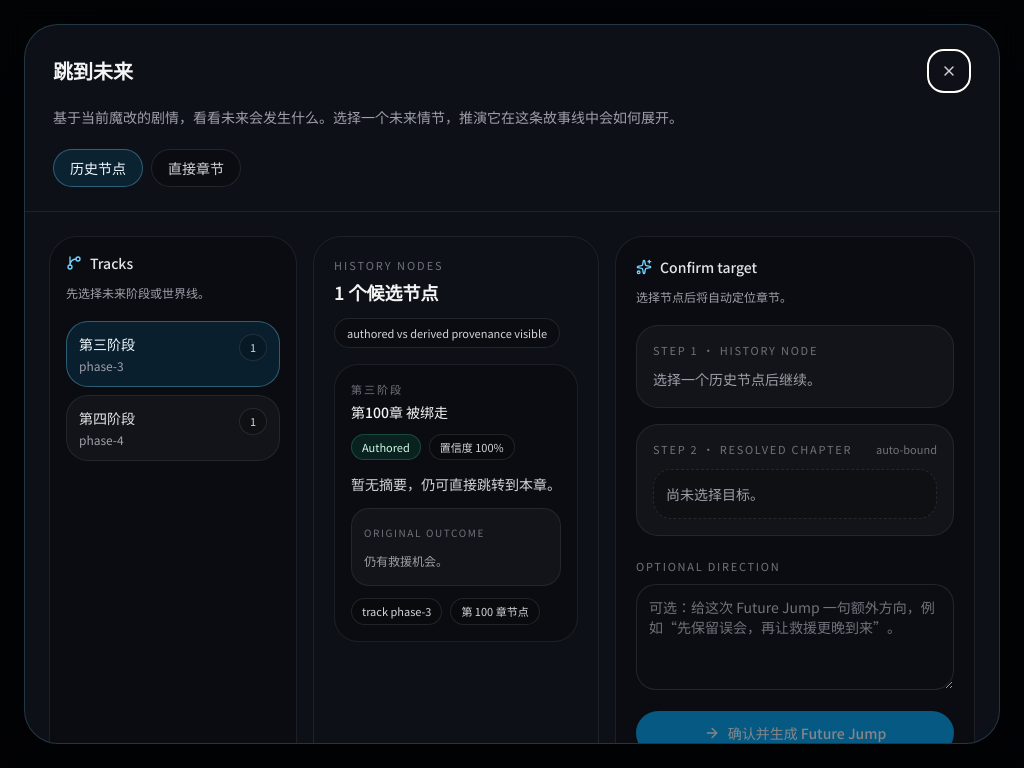
Scenario: FutureMapOverlay › direct-chapter mode still shows selectable chapter cards when summaries are blank
expect the button with test id "future-map-track-phase-3" is shown: met, box [66,321,280,387]
Click the button with test id "future-map-mode-direct-chapter": (196, 168) [151,149,241,187]
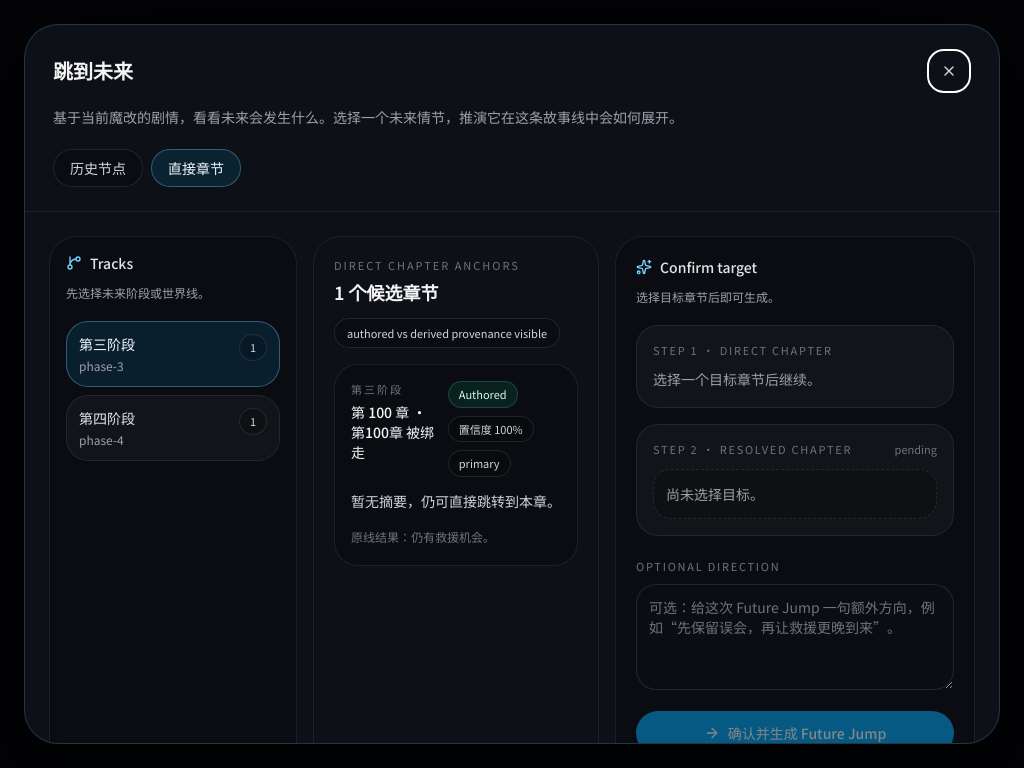
expect the button with test id "future-map-confirm" is disabled: met, box [636,711,954,744]
expect the text "暂无摘要，仍可直接跳转到本章。" is shown: met, box [351,488,561,512]
Click the button with test id "future-map-direct-chapter-100": (456, 465) [334,364,578,566]
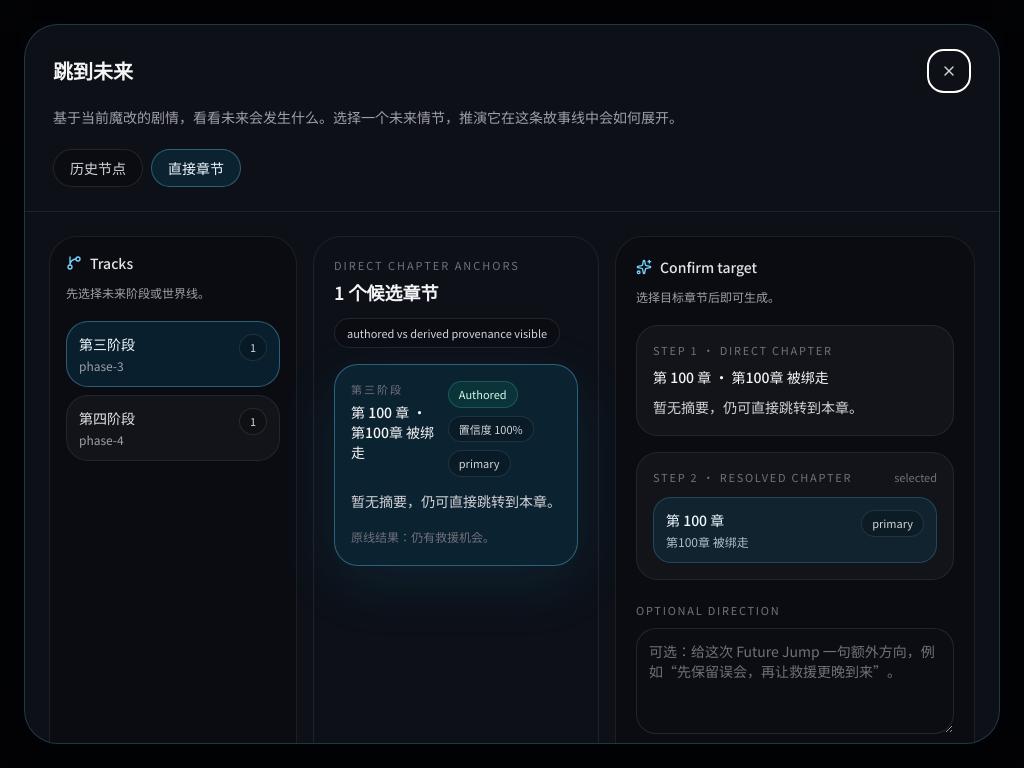
expect the element with test id "future-map-resolved-chapter" shows "第 100 章": met, box [666,510,724,530]
expect the element with test id "future-map-resolved-chapter" shows "第100章 被绑走": met, box [666,533,749,550]
